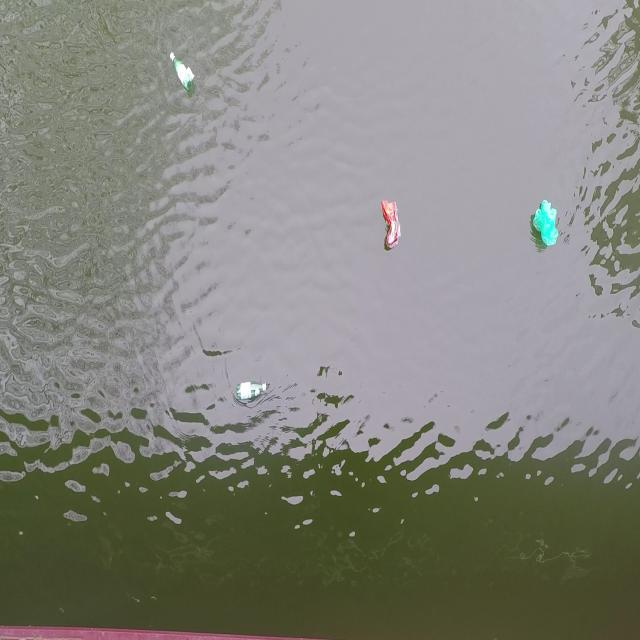Bouteille plastique: (166, 49, 197, 96), (231, 378, 271, 405)
Sac plastique: (529, 196, 563, 252), (376, 197, 406, 257)
